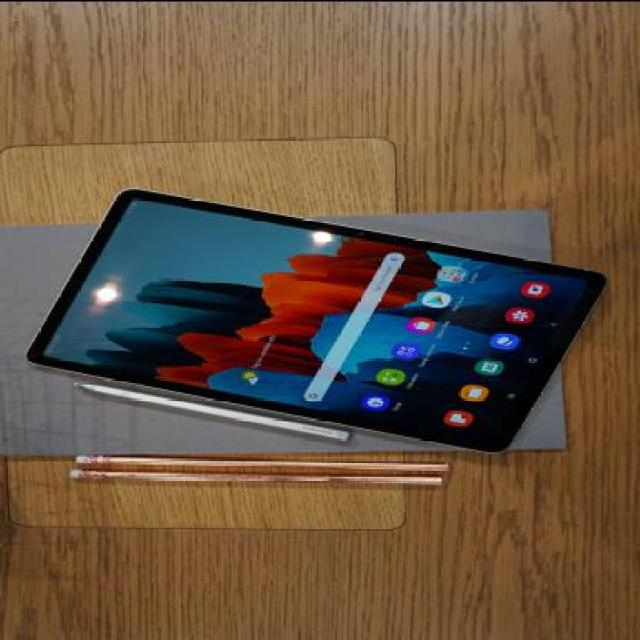tablet: (48, 174, 619, 463)
